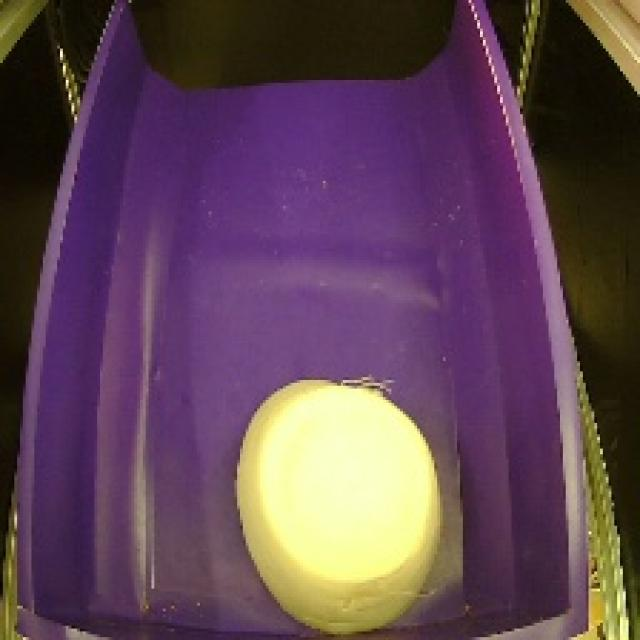white_radish: (226, 361, 455, 640)
